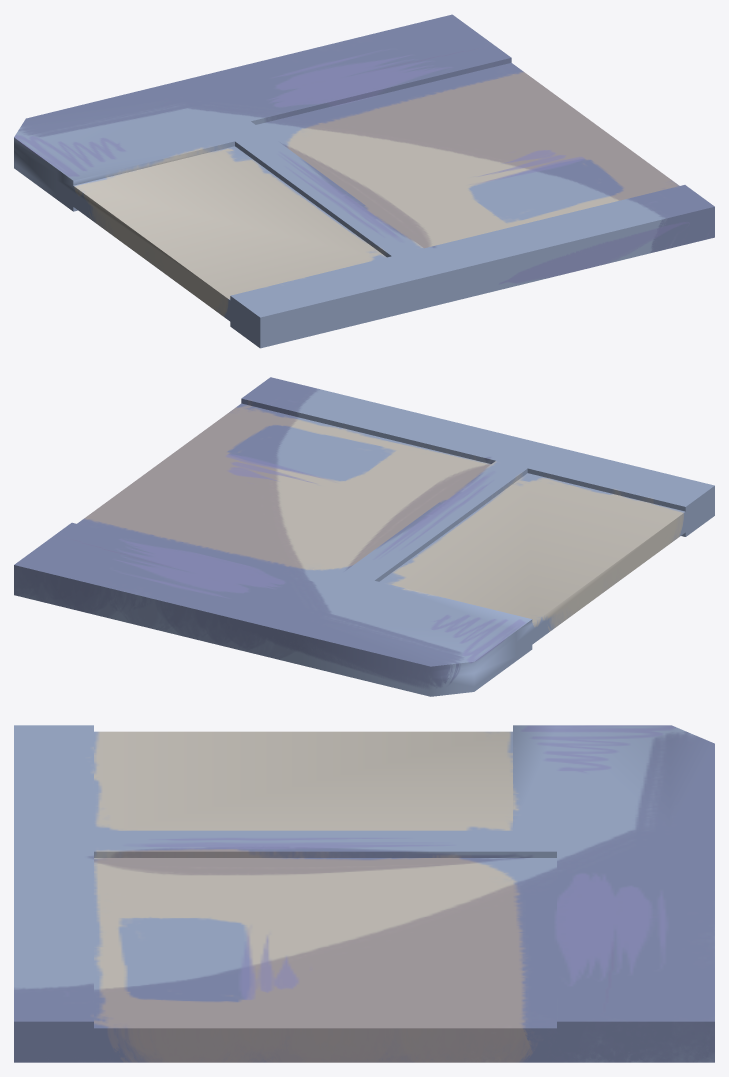
File: dyskietka.fbx
3 renders of one model, top to bottom at view 1: azimuth 30°, elevation 25°; view 2: azimuth 150°, elevation 25°; view 3: azimuth 270°, elevation 25°, orthographic. The views are drawn at different scales.
Visible parts, largest first — view 1: dyskietka; view 2: dyskietka; view 3: dyskietka.
Boxes of the visible parts, bbox=[...] form: dyskietka: bbox=[14, 14, 714, 348]; dyskietka: bbox=[14, 377, 714, 696]; dyskietka: bbox=[14, 725, 714, 1062].
Bounding box in the file's own units: 18.05 × 1.17 × 18.05.
